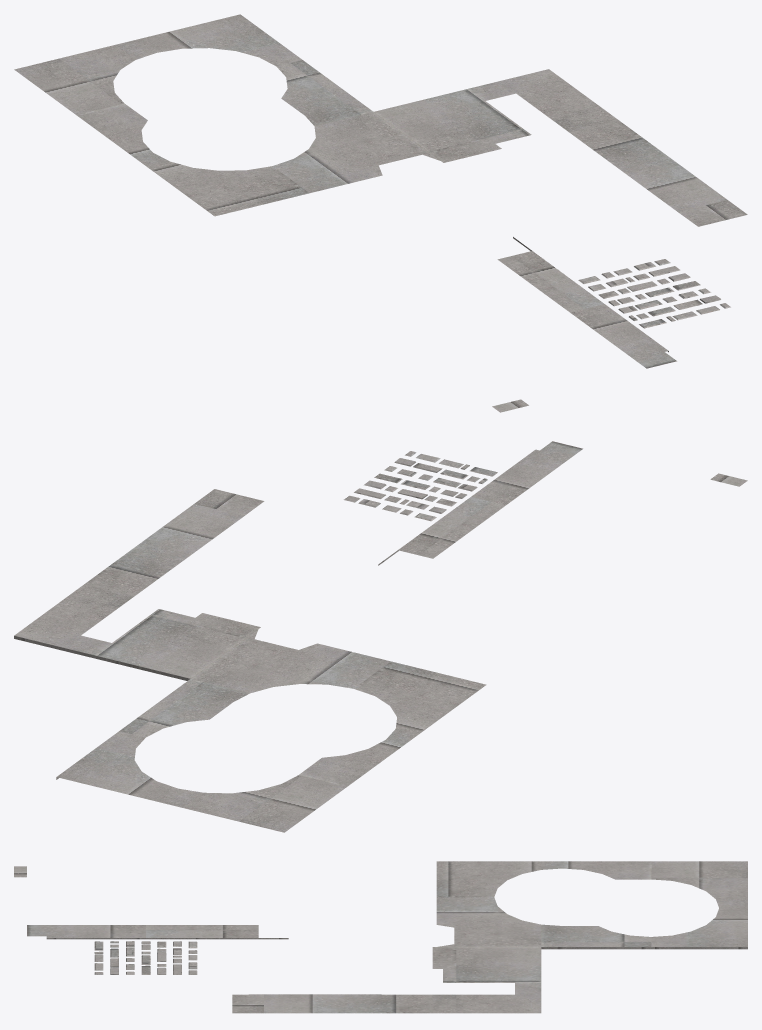
The model's file is Concrete.dae.
The picture shows the model from 3 angles, top to bottom: view 1: azimuth 30°, elevation 25°; view 2: azimuth 150°, elevation 25°; view 3: azimuth 270°, elevation 25°; orthographic projection. The views are drawn at different scales.
Parts seen in each view (by area): view 1: Concrete; view 2: Concrete; view 3: Concrete.
Boxes of the visible parts, box(x1,y1,x2,y2) form: Concrete: box(14, 14, 747, 412); Concrete: box(14, 441, 747, 832); Concrete: box(14, 861, 747, 1013).
Bounding box in the file's own units: 27.5 × 56.1 × 0.2.
Materials: 1 (1 with a texture image).
